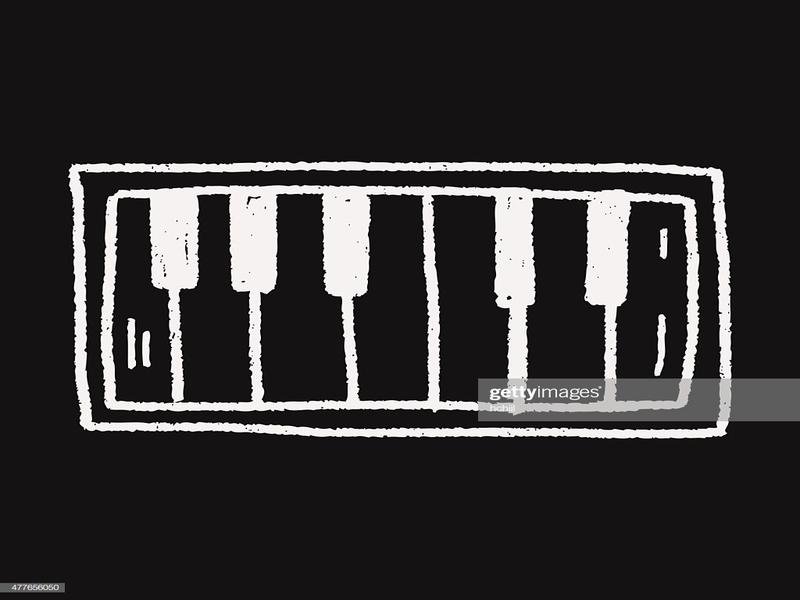piano: (104, 179, 701, 420)
